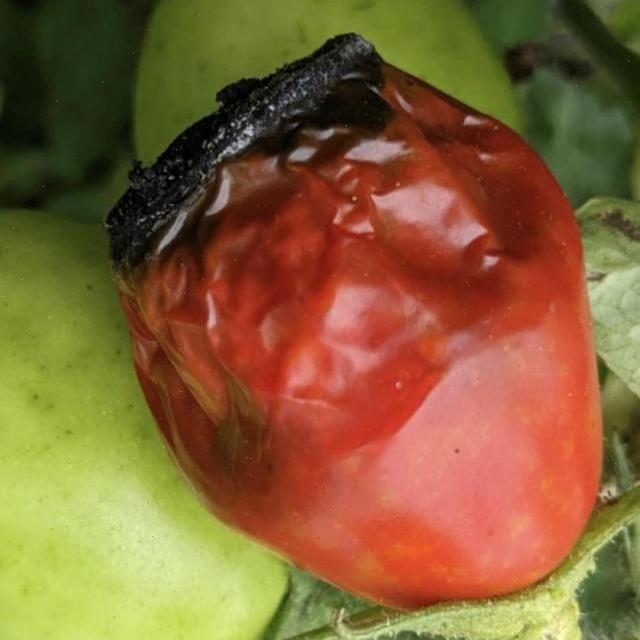Blossom End Rot Fruit: (65, 22, 286, 188)
